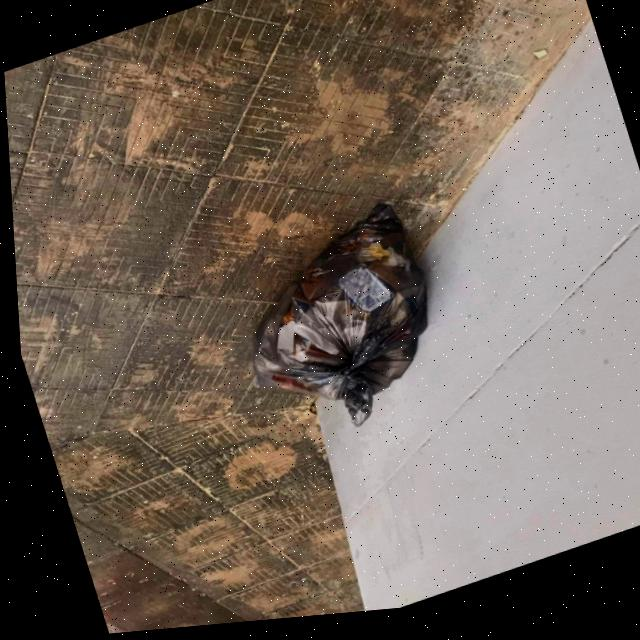Mixed Waste -Black Bag-: (212, 200, 460, 460)
